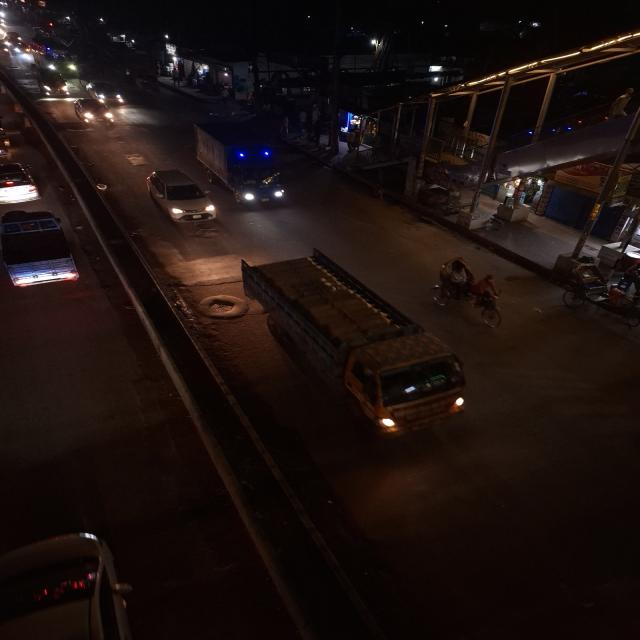bus: (28, 37, 80, 76)
car: (144, 166, 218, 225), (0, 159, 43, 205), (70, 96, 116, 128), (34, 68, 74, 101), (82, 79, 128, 105)
motorcycle: (428, 255, 512, 330)
pickup_van: (0, 206, 83, 292)
truck: (231, 246, 486, 442), (188, 118, 293, 208)
